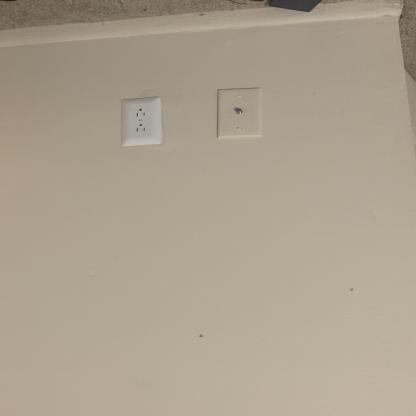OUTLET: (120, 99, 161, 147)
